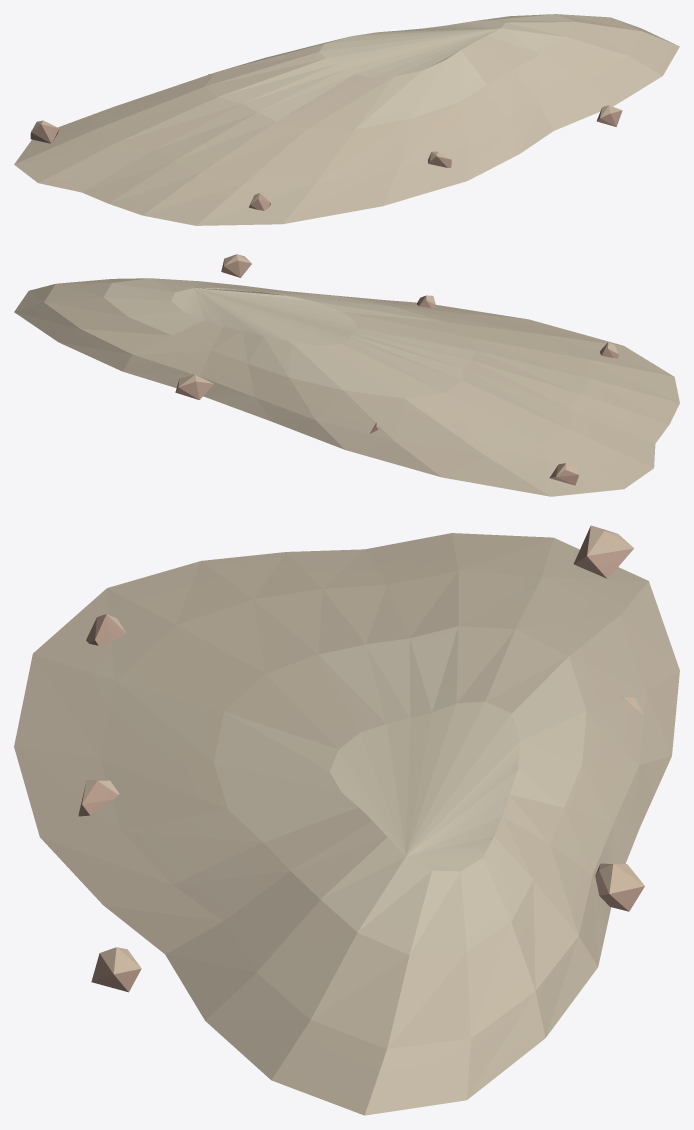
Rendered from drift.glb.
3 views of the same model, one above another, from view 1: azimuth 30°, elevation 25°; view 2: azimuth 150°, elevation 25°; view 3: azimuth 270°, elevation 25° (orthographic). The views are drawn at different scales.
Bounding box in the file's own units: 7.39 × 0.638 × 3.55.
